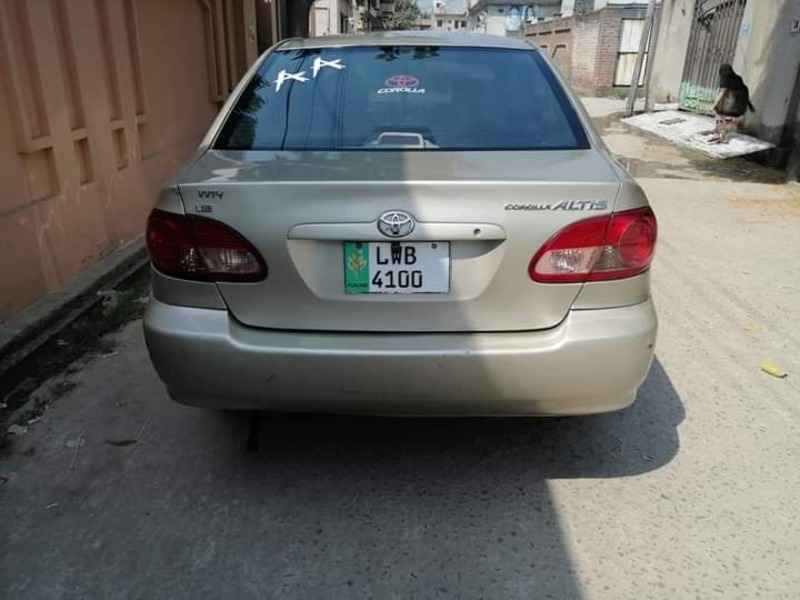License Plate: (342, 234, 456, 300)
